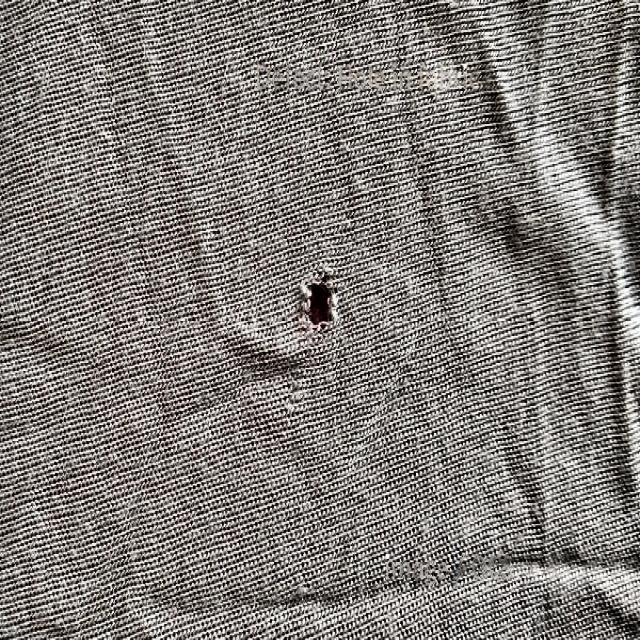Hole: (292, 256, 348, 344)
